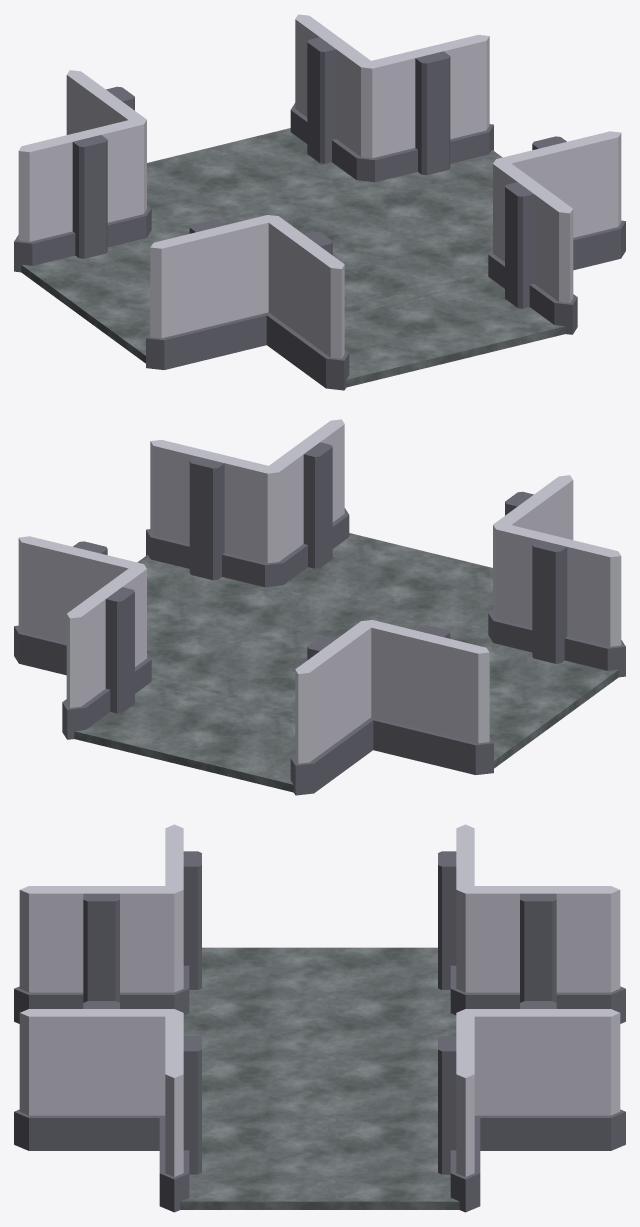
The model's file is intersection_4way_03.fbx.
3 views of the same model, one above another, from view 1: azimuth 30°, elevation 25°; view 2: azimuth 150°, elevation 25°; view 3: azimuth 270°, elevation 25° (orthographic). The views are drawn at different scales.
Visible parts, largest first — view 1: floor_01_73, wall_02_89, wall_02_85, wall_02_88, floor_04_82, floor_04_80, wall_02_87, wall_02_91, wall_02_84, wall_02_90, floor_04_81, floor_04_79 (+1 smaller); view 2: floor_01_73, wall_02_85, wall_02_84, wall_02_88, floor_04_80, floor_04_82, wall_02_86, wall_02_90, wall_02_89, wall_02_91, floor_04_81, floor_04_79 (+1 smaller); view 3: floor_01_73, wall_02_90, wall_02_91, wall_02_86, wall_02_87, floor_04_79, floor_04_81, wall_02_89, wall_02_84, wall_02_85, wall_02_88.
Boxes of the visible parts, left/top/right/bottom form: floor_01_73: left=140, top=177, right=491, bottom=315; wall_02_89: left=356, top=34, right=493, bottom=182; wall_02_85: left=146, top=215, right=278, bottom=369; wall_02_88: left=14, top=118, right=150, bottom=272; floor_04_82: left=344, top=273, right=565, bottom=387; floor_04_80: left=147, top=128, right=364, bottom=234; wall_02_87: left=264, top=215, right=349, bottom=390; wall_02_91: left=488, top=159, right=577, bottom=334; wall_02_84: left=489, top=131, right=625, bottom=270; wall_02_90: left=290, top=14, right=376, bottom=179; floor_04_81: left=21, top=240, right=150, bottom=363; floor_04_79: left=364, top=150, right=502, bottom=271; floor_01_73: left=148, top=582, right=499, bottom=720; wall_02_85: left=488, top=523, right=625, bottom=677; wall_02_84: left=146, top=439, right=283, bottom=587; wall_02_88: left=363, top=620, right=493, bottom=774; floor_04_80: left=74, top=678, right=295, bottom=792; floor_04_82: left=276, top=533, right=492, bottom=639; wall_02_86: left=290, top=620, right=375, bottom=795; wall_02_90: left=62, top=564, right=151, bottom=739; wall_02_89: left=14, top=536, right=150, bottom=675; wall_02_91: left=264, top=419, right=349, bottom=584; floor_04_81: left=489, top=645, right=618, bottom=768; floor_04_79: left=137, top=555, right=275, bottom=676; floor_01_73: left=183, top=1009, right=456, bottom=1139; wall_02_90: left=457, top=1001, right=625, bottom=1150; wall_02_91: left=14, top=1001, right=183, bottom=1150; wall_02_86: left=450, top=886, right=625, bottom=1023; wall_02_87: left=14, top=886, right=188, bottom=1023; floor_04_79: left=180, top=1132, right=459, bottom=1209; floor_04_81: left=184, top=947, right=455, bottom=1016; wall_02_89: left=438, top=1009, right=480, bottom=1212; wall_02_84: left=159, top=1009, right=201, bottom=1212; wall_02_85: left=165, top=824, right=201, bottom=1015; wall_02_88: left=438, top=824, right=474, bottom=994.
Size of the model in its own units: 42.05 by 10 by 42.05.
